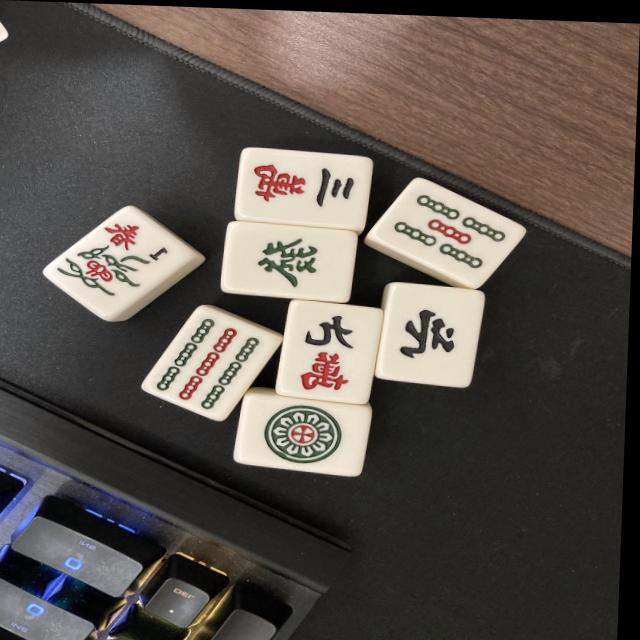1D: (236, 393, 372, 479)
1S: (43, 200, 194, 327)
3C: (230, 155, 362, 232)
5B: (373, 185, 512, 286)
9B: (144, 306, 267, 423)
9C: (278, 306, 379, 407)
GD: (223, 221, 353, 298)
NW: (383, 288, 476, 378)
